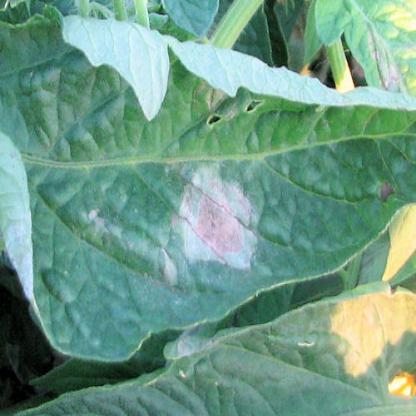potato leaf late blight: (3, 10, 415, 355)
